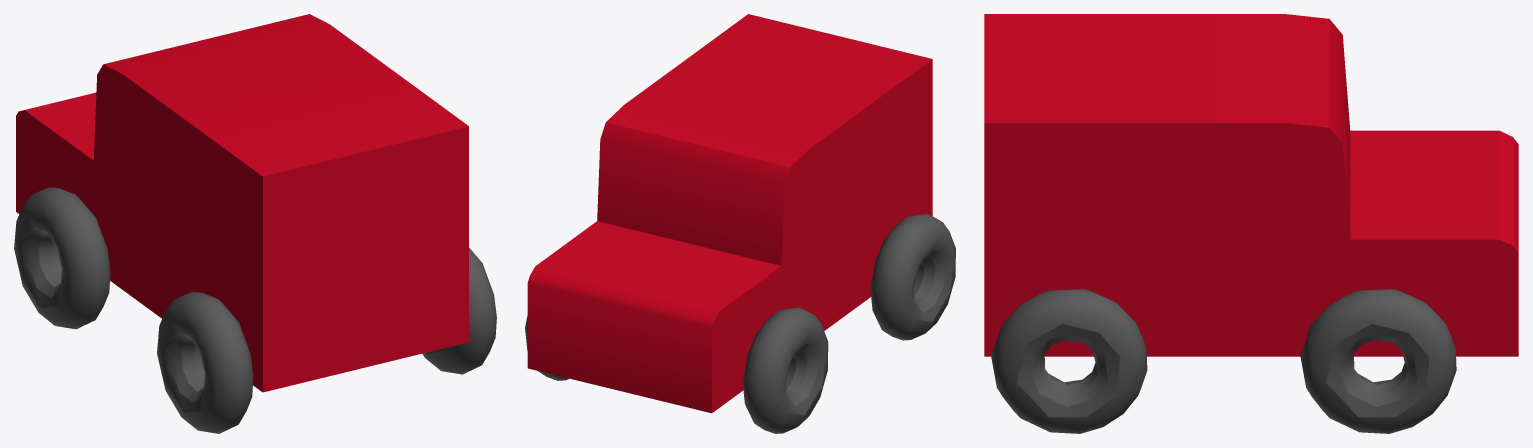
The model's file is car.fbx.
3 views of the same model, side by side, from view 1: azimuth 30°, elevation 25°; view 2: azimuth 150°, elevation 25°; view 3: azimuth 270°, elevation 25° (orthographic). The views are drawn at different scales.
Parts seen in each view (by area): view 1: Cube, wheel_04, wheel_03, wheel_02; view 2: Cube, wheel_04, wheel_03; view 3: Cube, wheel_02, wheel_01.
Boxes of the visible parts, left/top/right/bottom form: Cube: left=16, top=14, right=468, bottom=392; wheel_04: left=157, top=292, right=253, bottom=433; wheel_03: left=14, top=187, right=110, bottom=329; wheel_02: left=422, top=248, right=496, bottom=374; Cube: left=527, top=14, right=932, bottom=413; wheel_04: left=870, top=214, right=955, bottom=340; wheel_03: left=742, top=307, right=828, bottom=433; Cube: left=984, top=14, right=1518, bottom=356; wheel_02: left=991, top=289, right=1147, bottom=433; wheel_01: left=1300, top=289, right=1456, bottom=433.
Bounding box in the file's own units: 277 × 256 × 415.
